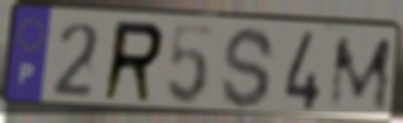2: (50, 20, 102, 99)
4: (283, 28, 323, 115)
5: (165, 21, 219, 108)
M: (326, 35, 395, 113)
R: (99, 18, 168, 106)
S: (219, 24, 278, 112)
